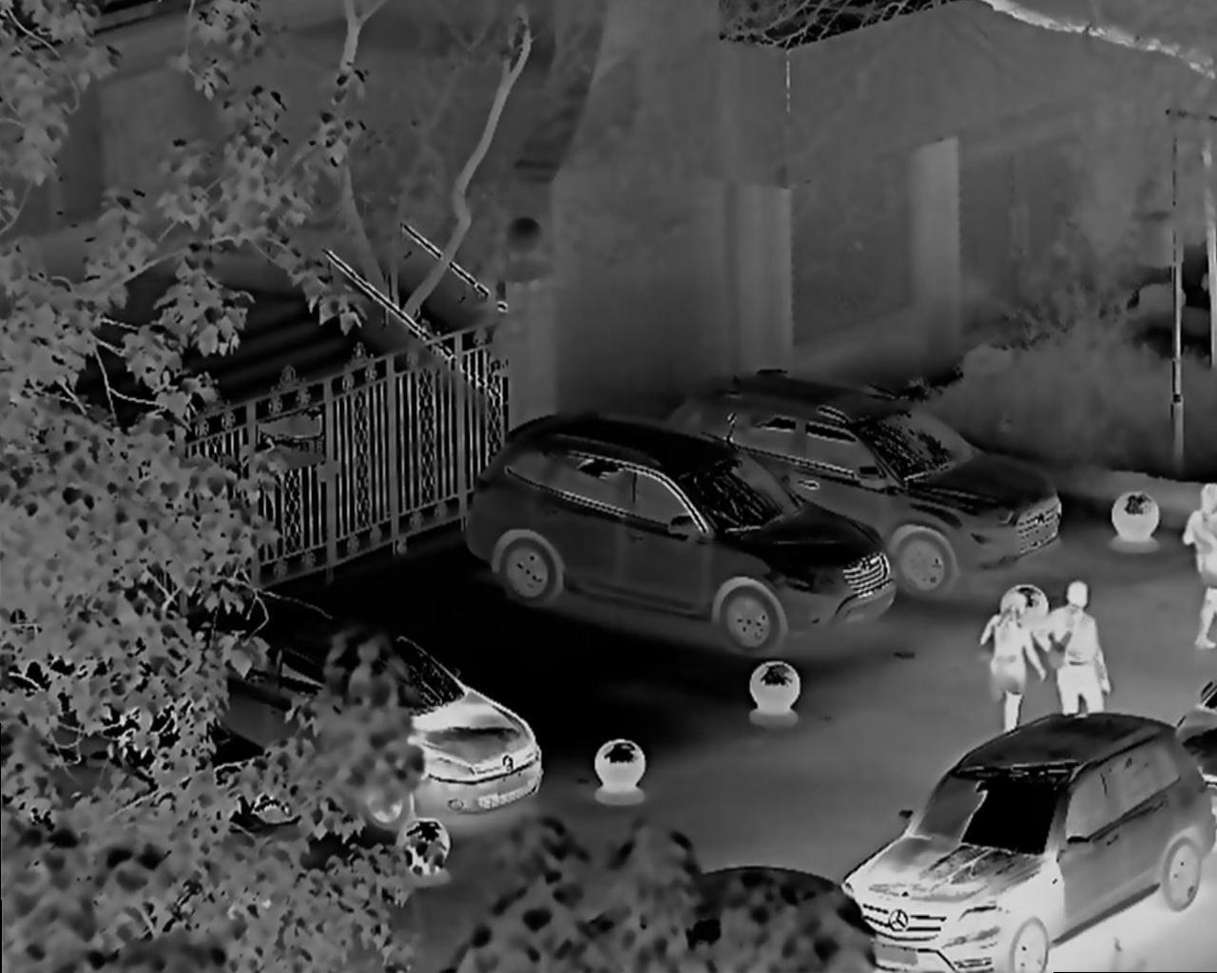person: (974, 583, 1044, 755), (1036, 582, 1118, 713), (1176, 476, 1217, 660)
